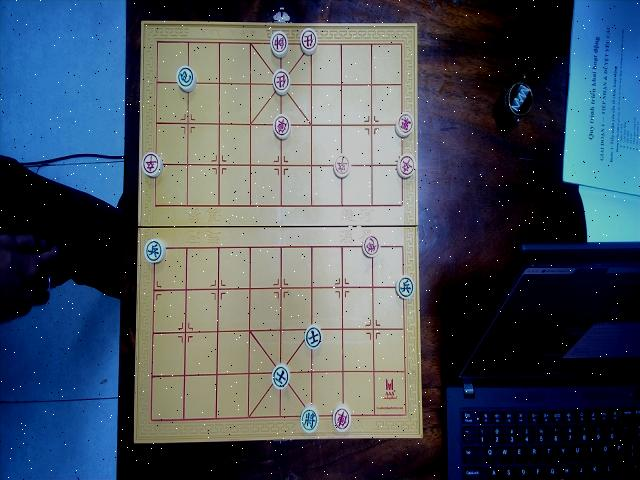piece: (144, 237, 166, 264), (332, 405, 352, 433), (177, 65, 197, 93), (301, 406, 321, 434), (299, 28, 318, 56), (270, 32, 290, 58), (143, 152, 163, 178), (272, 364, 290, 392), (395, 112, 414, 138), (397, 154, 415, 180), (273, 70, 291, 96), (274, 115, 292, 141), (304, 325, 322, 351), (397, 276, 415, 300), (334, 155, 350, 180), (363, 236, 380, 258)
